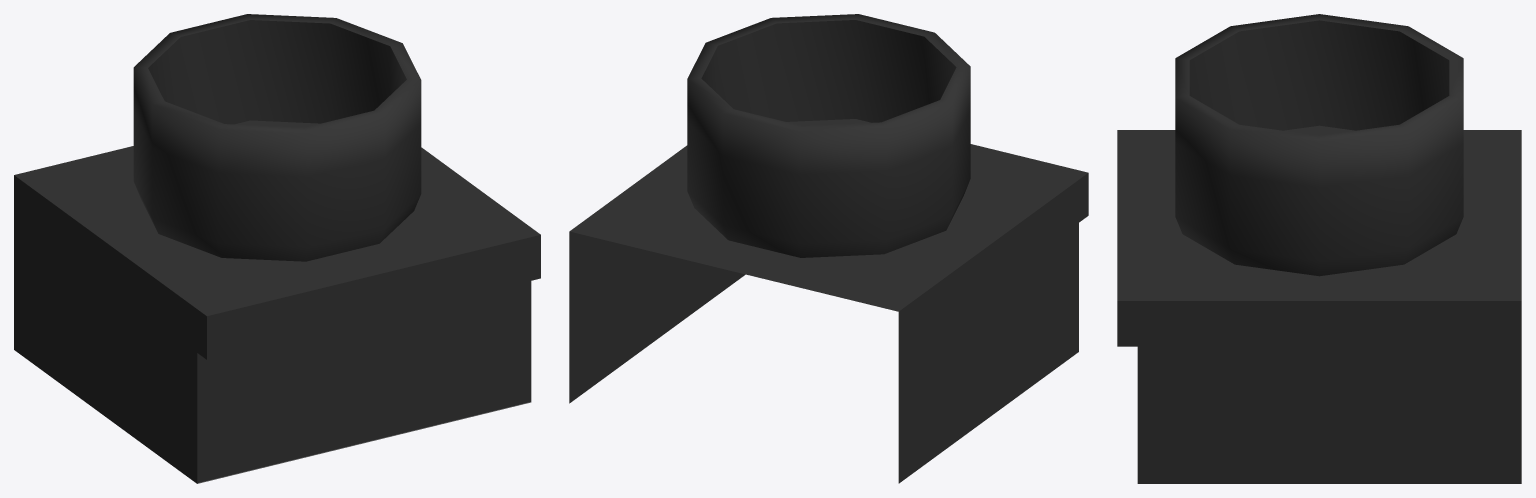
File: pot.dae
3 renders of one model, left to right at view 1: azimuth 30°, elevation 25°; view 2: azimuth 150°, elevation 25°; view 3: azimuth 270°, elevation 25°, orthographic. The views are drawn at different scales.
Visible parts, largest first — view 1: Cylinder03, Regroup04, Regroup01, Regroup07, Regroup02, Regroup06; view 2: Cylinder03, Regroup07, Regroup01, Regroup06; view 3: Cylinder03, Regroup07, Regroup01, Regroup06.
Part boxes in pixels (x1,y1,x2,y2): Cylinder03: (133,14,421,261); Regroup04: (197,281,531,483); Regroup01: (14,146,540,315); Regroup07: (14,219,197,483); Regroup02: (207,235,540,359); Regroup06: (14,175,206,359); Cylinder03: (687,14,970,257); Regroup07: (569,223,1078,483); Regroup01: (570,144,1087,311); Regroup06: (569,173,1088,354); Cylinder03: (1175,14,1463,276); Regroup07: (1137,346,1521,483); Regroup01: (1117,130,1521,300); Regroup06: (1117,301,1521,346).
Size of the model in its own units: 4 by 3.5 by 4.
